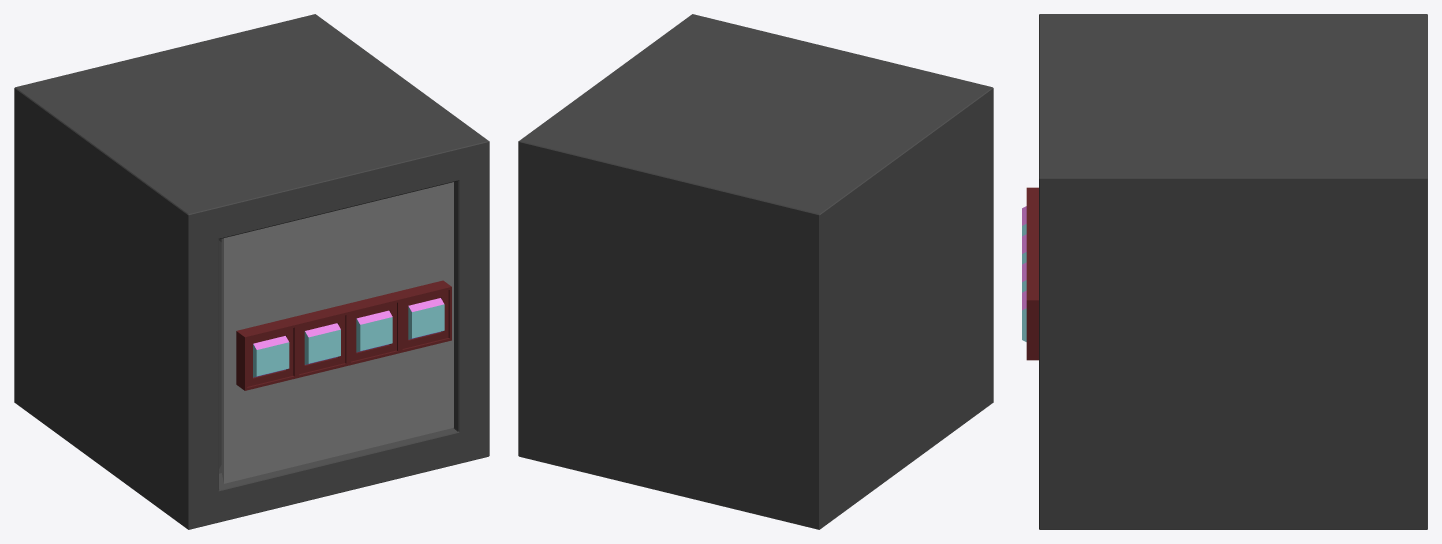
File: Cofre.fbx
3 views of the same model, side by side, from view 1: azimuth 30°, elevation 25°; view 2: azimuth 150°, elevation 25°; view 3: azimuth 270°, elevation 25° (orthographic). The views are drawn at different scales.
Visible parts, largest first — view 1: Cube.006, Cube.007, Cube.008, Circle.009, Circle.010, Circle.006, Circle.008; view 2: Cube.006; view 3: Cube.006, Cube.008.
Boxes of the visible parts, left/top/right/bottom form: Cube.006: left=14, top=14, right=489, bottom=529; Cube.007: left=221, top=182, right=453, bottom=483; Cube.008: left=236, top=280, right=451, bottom=390; Circle.009: left=304, top=323, right=340, bottom=364; Circle.010: left=356, top=310, right=392, bottom=352; Circle.006: left=408, top=298, right=444, bottom=339; Circle.008: left=253, top=336, right=289, bottom=377; Cube.006: left=518, top=14, right=993, bottom=529; Cube.006: left=1039, top=14, right=1427, bottom=529; Cube.008: left=1026, top=187, right=1038, bottom=360.
Size of the model in its own units: 84.59 by 84.59 by 88.29.
